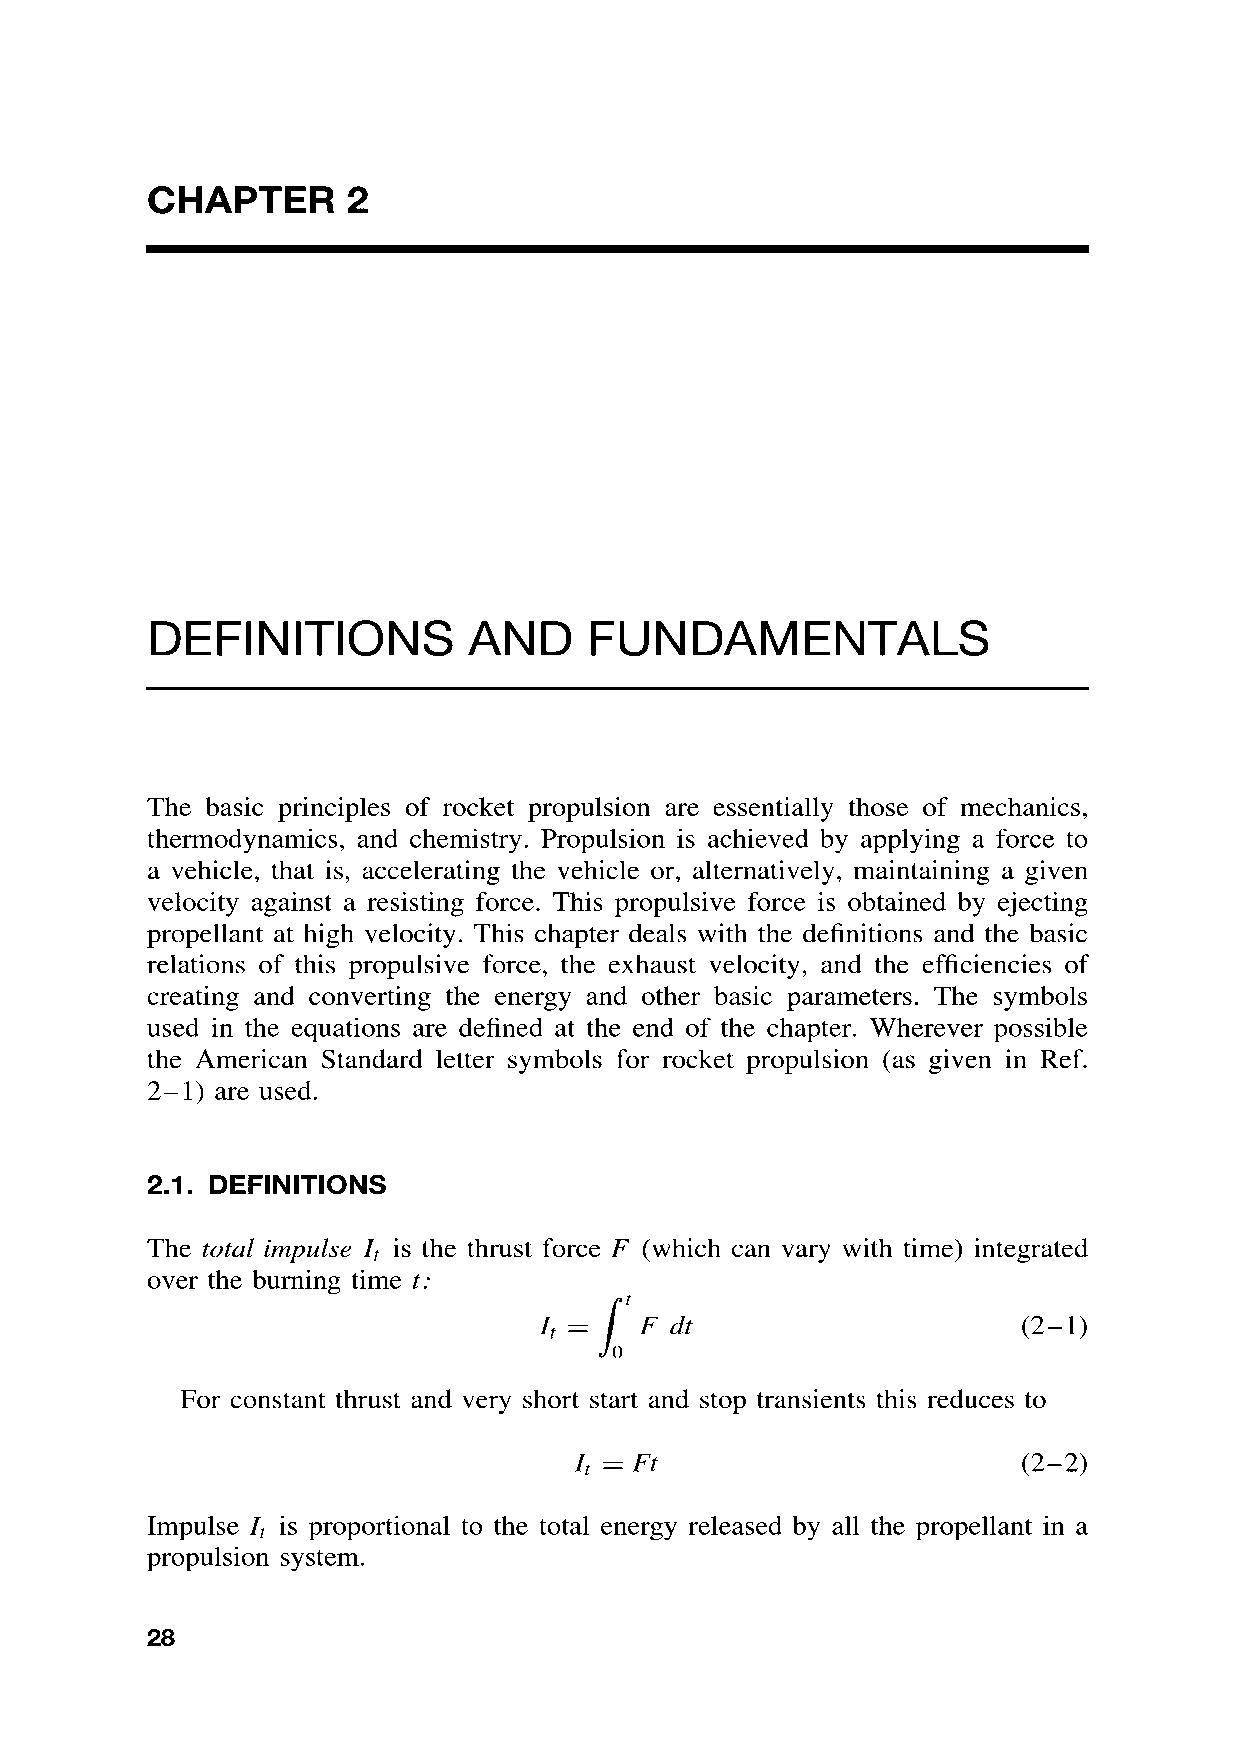chapter: (148, 617, 990, 658), (145, 181, 370, 217), (144, 1172, 388, 1197)
content: (144, 1235, 1091, 1576), (141, 790, 1088, 1108)
content_pagenumber: (145, 1625, 176, 1651)
